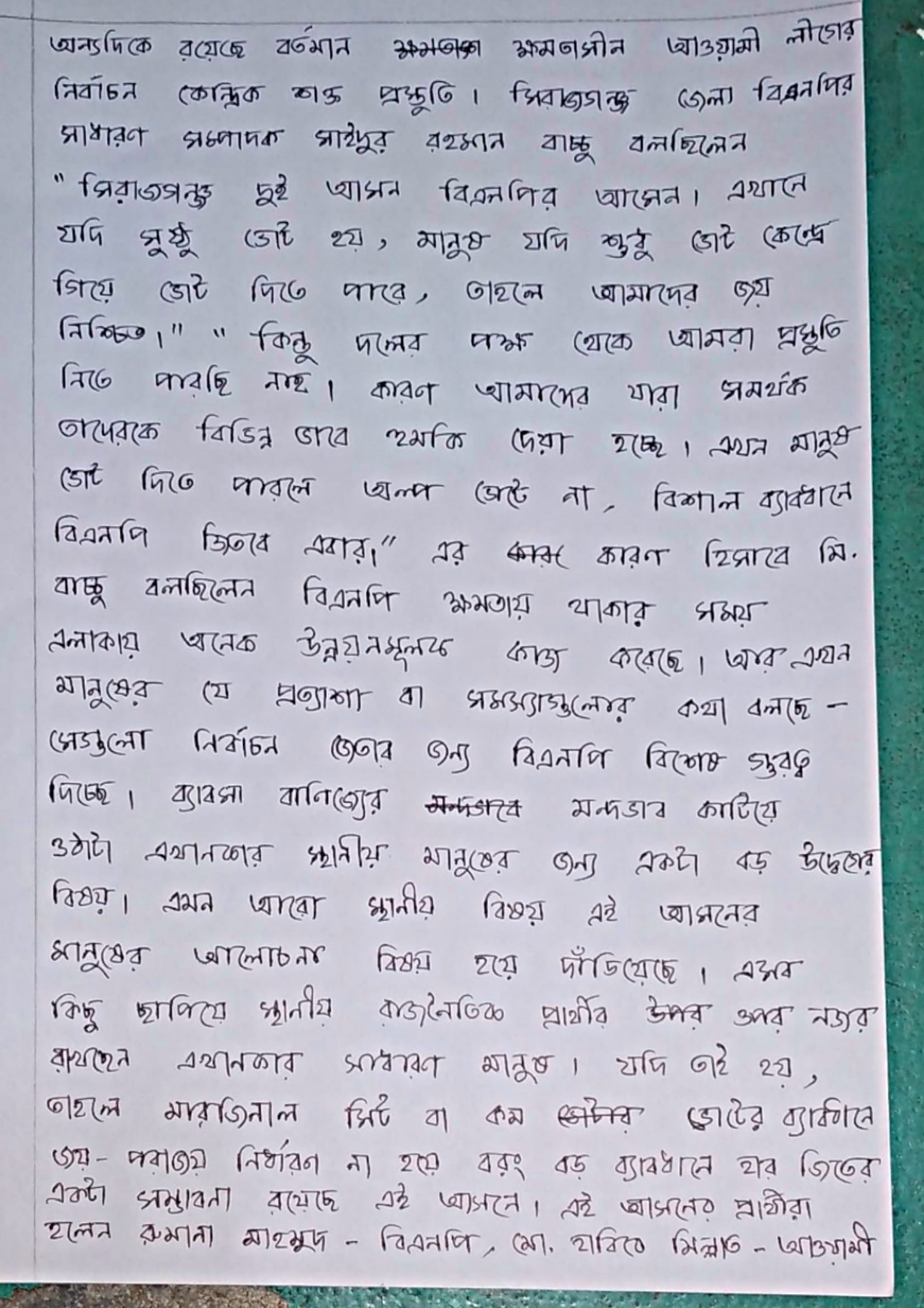line: (50, 514, 856, 570), (55, 462, 850, 518), (48, 984, 887, 1035), (49, 726, 811, 781), (51, 570, 767, 628), (53, 675, 849, 726), (60, 358, 808, 412), (46, 625, 852, 675), (48, 831, 878, 879), (48, 15, 855, 64), (45, 775, 781, 828), (59, 314, 845, 363), (51, 875, 759, 929), (53, 1141, 878, 1187), (58, 215, 835, 263), (56, 414, 861, 460), (46, 1223, 878, 1266), (46, 1093, 875, 1136), (46, 1178, 815, 1224), (50, 1044, 818, 1088), (52, 70, 856, 112), (53, 941, 800, 986), (52, 268, 774, 311), (60, 121, 747, 166), (55, 172, 808, 211)
